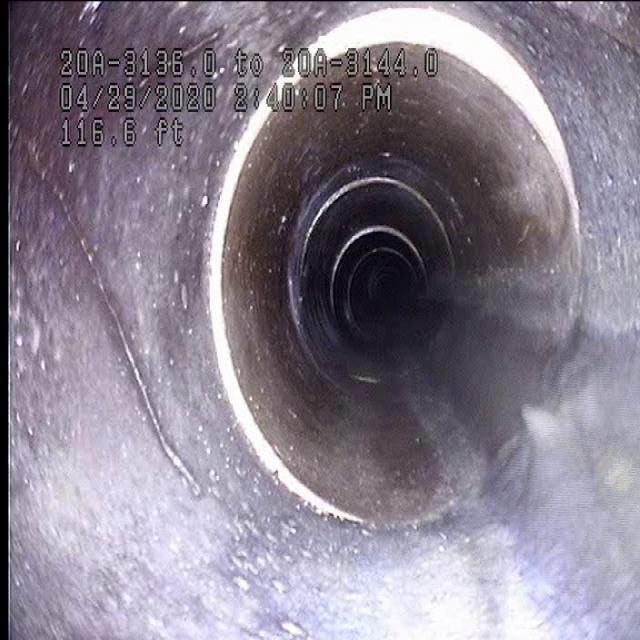Crack: (45, 166, 197, 481)
